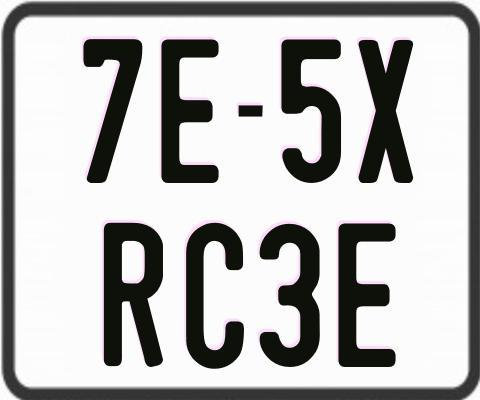3: (258, 221, 321, 368)
5: (281, 38, 345, 185)
7: (82, 36, 145, 180)
C: (186, 221, 248, 373)
E: (161, 39, 221, 183), (335, 222, 393, 368)
R: (102, 223, 163, 367)
X: (358, 37, 418, 184)
